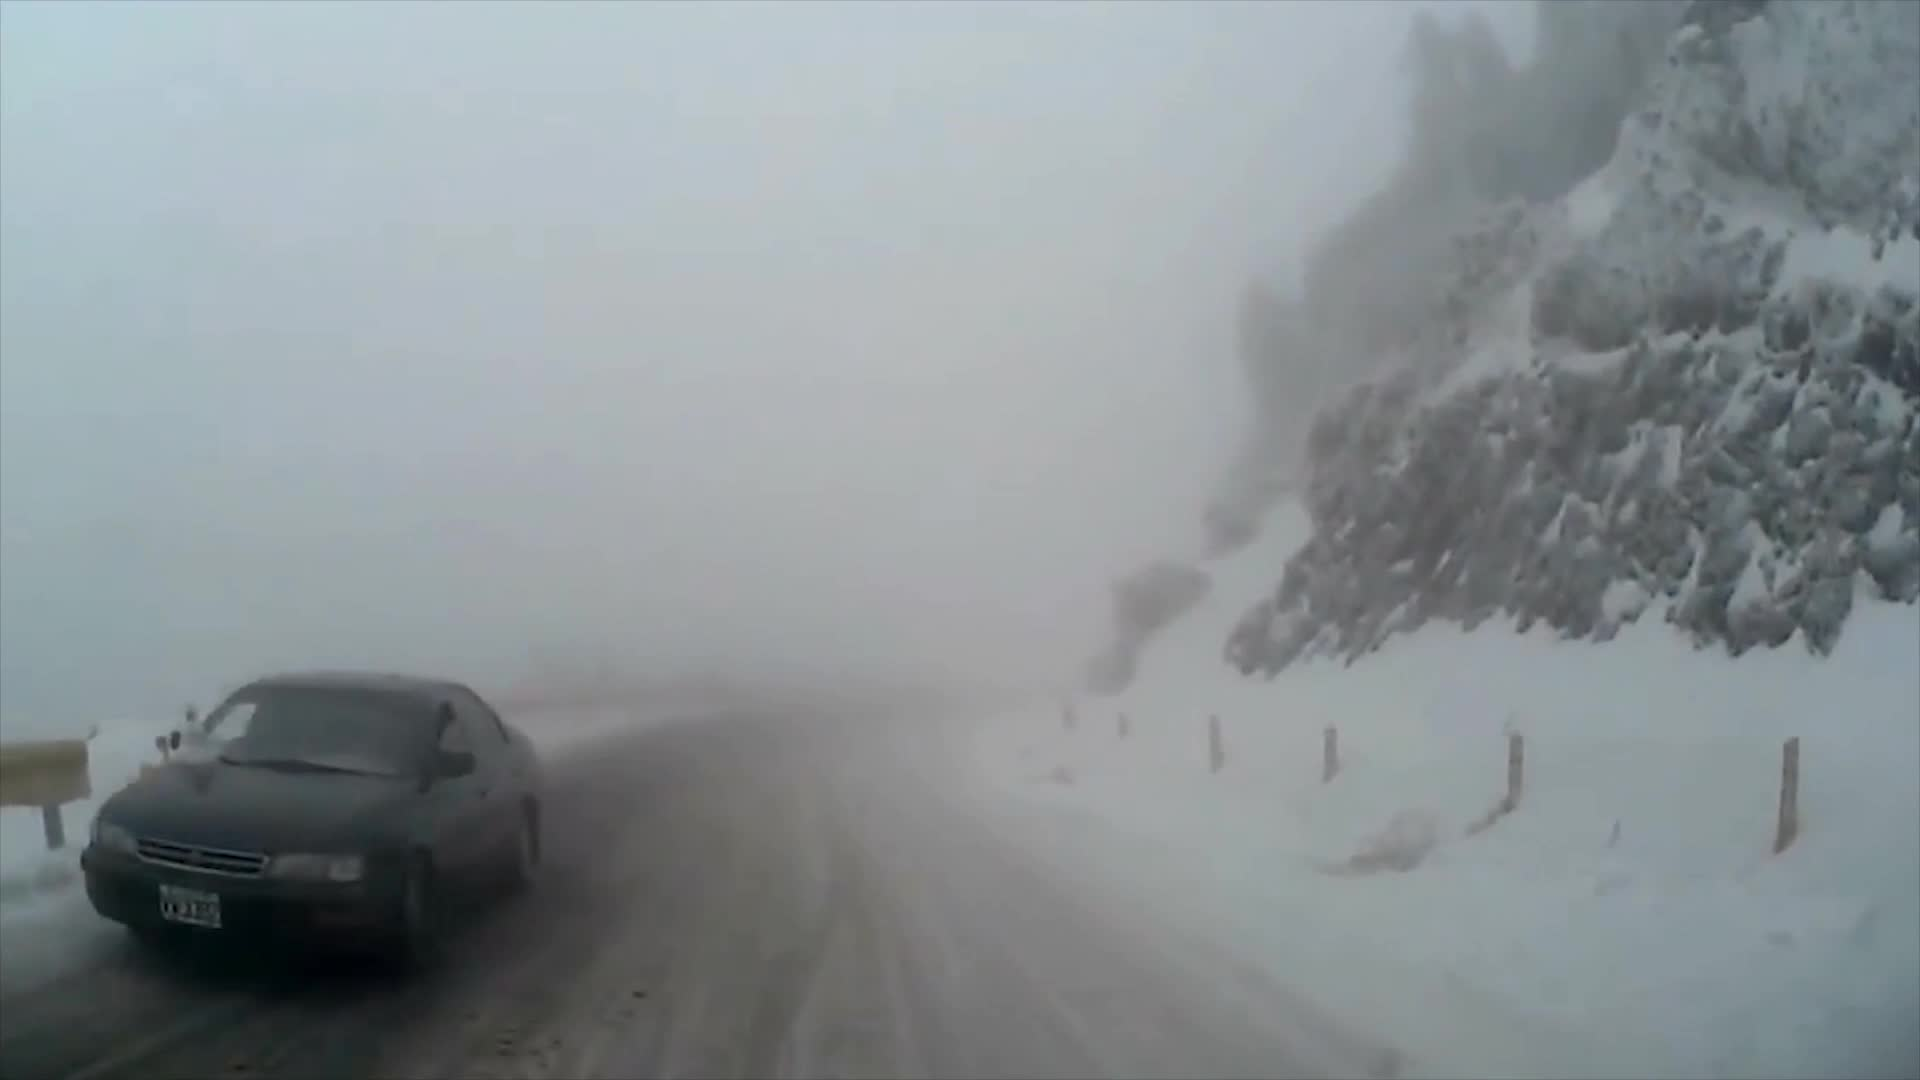vehicle: (73, 669, 546, 978)
